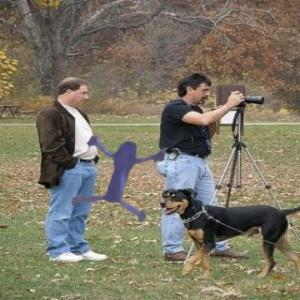drone: (50, 94, 200, 244)
